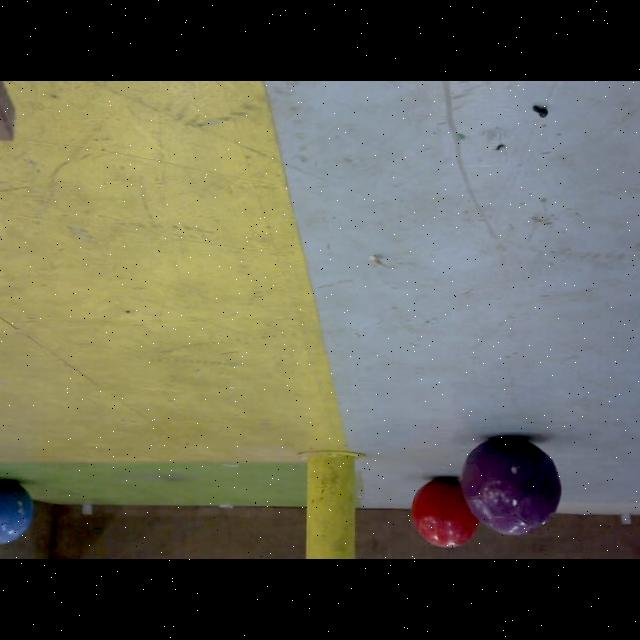B: (1, 480, 34, 546)
P: (462, 436, 564, 536)
R: (411, 477, 483, 547)
